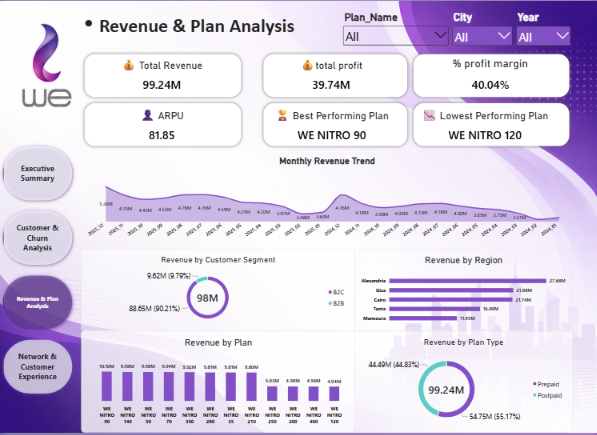

What the dashboard file says about the page in this screenshot:
{"tool":"powerbi","page":{"name":"Revenue & Plan Analysis","canvas":[1500,1080],"ordinal":2},"visuals":[{"type":"shape","box":[204,124,408,124],"z":0},{"type":"shape","box":[652,124,376,124],"z":1000},{"type":"shape","box":[1028,124,406,124],"z":2000},{"type":"shape","box":[1028,248,406,124],"z":3000},{"type":"shape","box":[652,248,376,124],"z":4000},{"type":"shape","box":[204,248,408,124],"z":5000},{"type":"cardVisual","title":"💰 Total Revenue","fields":{"Data":["table.total revenue"]},"box":[228,140,358,92],"z":6000},{"type":"cardVisual","title":"💰total profit","fields":{"Data":["table.total profit"]},"box":[680,140,300,92],"z":7000},{"type":"cardVisual","title":"👤 ARPU","fields":{"Data":["table.Arpu"]},"box":[228,264,358,92],"z":8000},{"type":"cardVisual","title":"% profit margin","fields":{"Data":["table.Profit Margin"]},"box":[1056,140,346,92],"z":9000},{"type":"cardVisual","title":"🏆 Best Performing Plan","fields":{"Data":["Dim_Plan.Best Performing Plan"]},"box":[652,264,358,92],"z":10000},{"type":"cardVisual","title":"📉 Lowest Performing Plan","fields":{"Data":["Dim_Plan.Lowest Performing Plan"]},"box":[1028,264,374,92],"z":11000},{"type":"stackedAreaChart","title":"Monthly Revenue Trend","fields":{"Category":["Dim_Date.year_monyh"],"Y":["Sum(Fact_Revenue.Revenue)"]},"box":[204,372,1230,248],"z":12000},{"type":"columnChart","title":"Revenue by Plan","fields":{"Category":["Dim_Plan.Plan_Name"],"Y":["table.total revenue"]},"box":[204,826,684,254],"z":13000},{"type":"donutChart","title":"Revenue by Plan Type","fields":{"Category":["Dim_Plan.Plan_Type"],"Y":["table.total revenue"]},"box":[888,826,546,254],"z":14000},{"type":"barChart","title":"Revenue by Region","fields":{"Category":["Dim_Geography.City"],"Y":["table.total revenue"]},"box":[888,620,546,206],"z":15000},{"type":"donutChart","title":"Revenue by Customer Segment","fields":{"Category":["Dim_Customer.Segment"],"Y":["table.total revenue"]},"box":[204,620,684,206],"z":16000},{"type":"slicer","fields":{"Values":["Dim_Plan.Plan_Name"]},"box":[854,24,274,94],"z":17000},{"type":"slicer","fields":{"Values":["Dim_Geography.City"]},"box":[1128,24,160,94],"z":18000},{"type":"slicer","fields":{"Values":["Dim_Date.Year"]},"box":[1288,24,146,94],"z":19000},{"type":"textbox","box":[140,24,636,100],"z":20000},{"type":"pageNavigator","box":[0,356,192.5,637.5],"z":21000}]}

Visuals, with their boxes in screenshot pixels (x1, y1, x2, y2), scaled from the page's 1500x1080 canvas onto the 597x435 screenshot:
shape: rect(81, 50, 244, 100)
shape: rect(259, 50, 409, 100)
shape: rect(409, 50, 571, 100)
shape: rect(409, 100, 571, 150)
shape: rect(259, 100, 409, 150)
shape: rect(81, 100, 244, 150)
"💰 Total Revenue" cardVisual: rect(91, 56, 233, 93)
"💰total profit" cardVisual: rect(271, 56, 390, 93)
"👤 ARPU" cardVisual: rect(91, 106, 233, 143)
"% profit margin" cardVisual: rect(420, 56, 558, 93)
"🏆 Best Performing Plan" cardVisual: rect(259, 106, 402, 143)
"📉 Lowest Performing Plan" cardVisual: rect(409, 106, 558, 143)
"Monthly Revenue Trend" stackedAreaChart: rect(81, 150, 571, 250)
"Revenue by Plan" columnChart: rect(81, 333, 353, 434)
"Revenue by Plan Type" donutChart: rect(353, 333, 571, 434)
"Revenue by Region" barChart: rect(353, 250, 571, 333)
"Revenue by Customer Segment" donutChart: rect(81, 250, 353, 333)
slicer - Dim_Plan.Plan_Name: rect(340, 10, 449, 48)
slicer - Dim_Geography.City: rect(449, 10, 513, 48)
slicer - Dim_Date.Year: rect(513, 10, 571, 48)
textbox: rect(56, 10, 309, 50)
pageNavigator: rect(0, 143, 77, 400)
